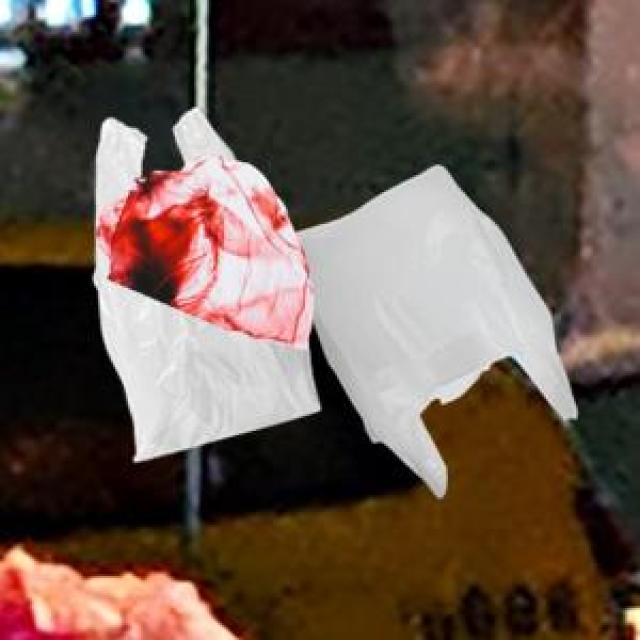plasticcover: (298, 175, 600, 494), (60, 102, 323, 460), (113, 137, 320, 350)
